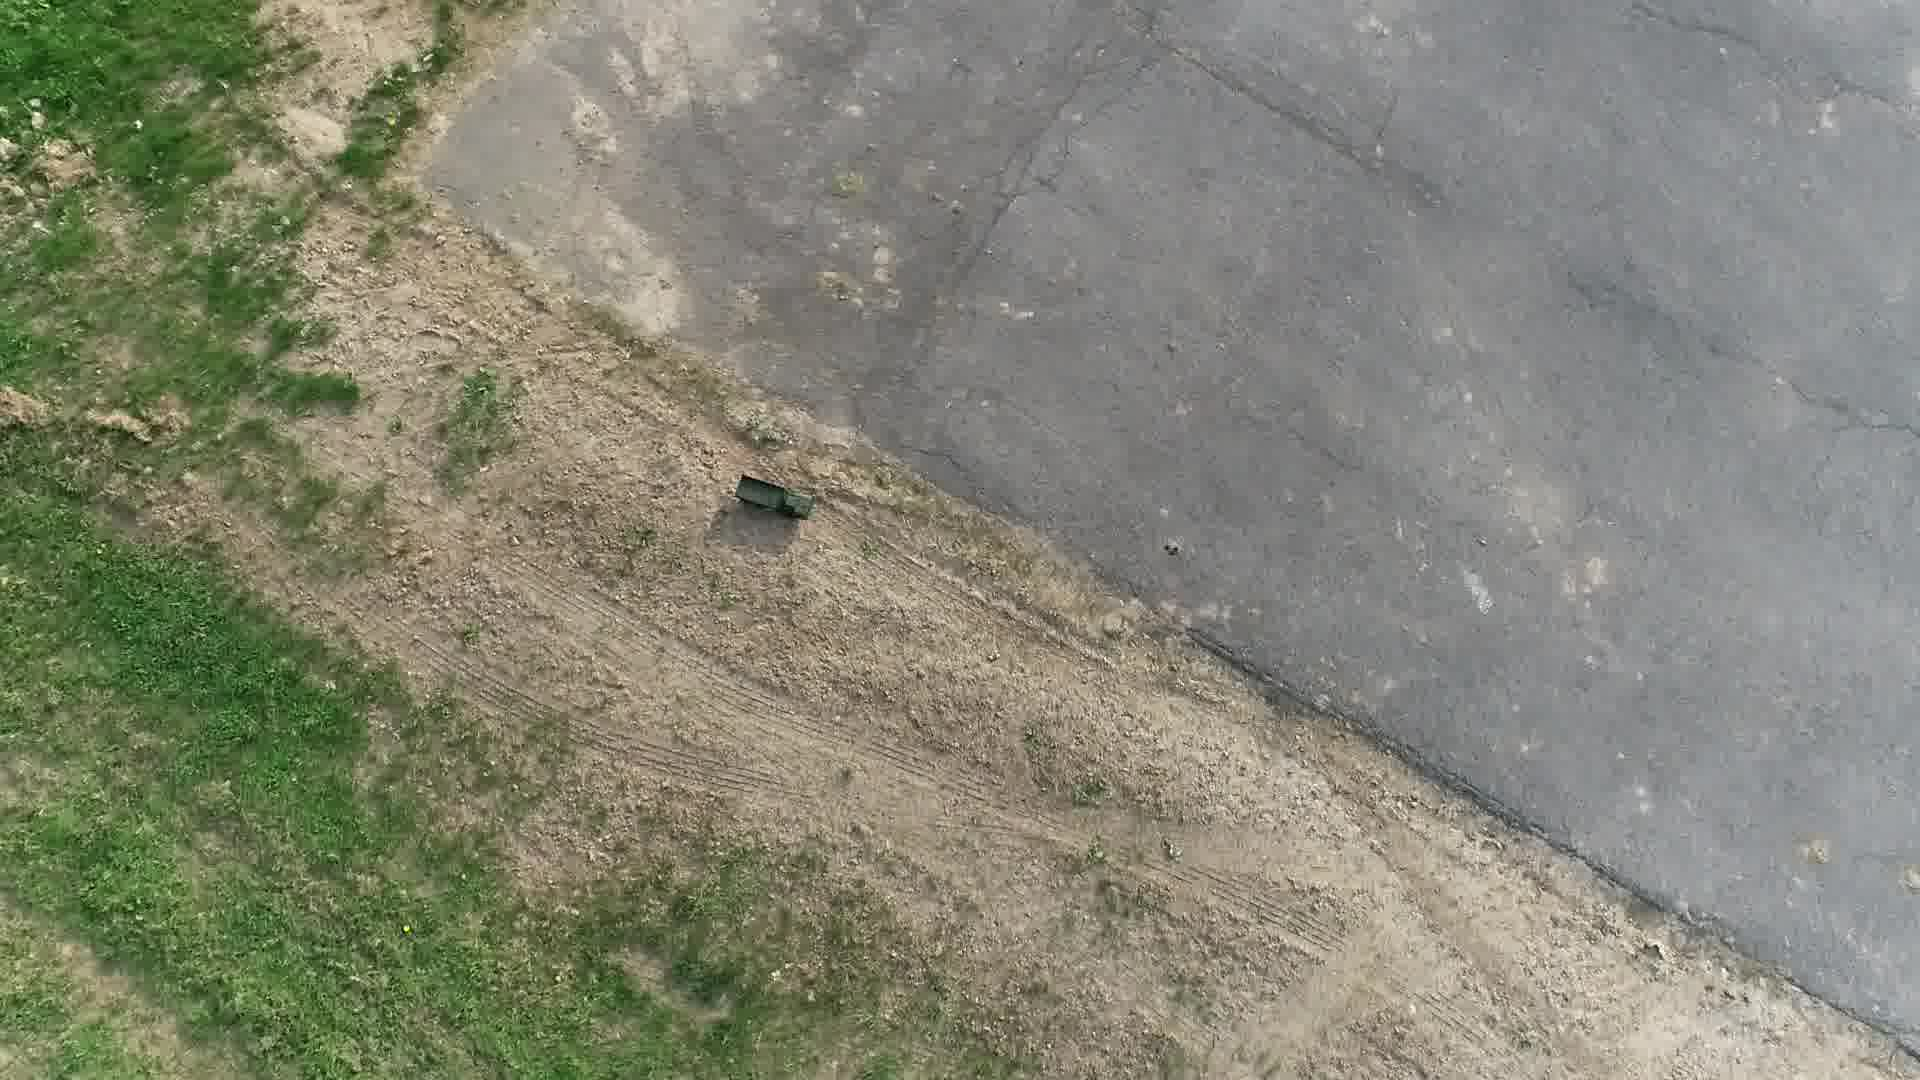transporter9: (731, 469, 818, 524)
